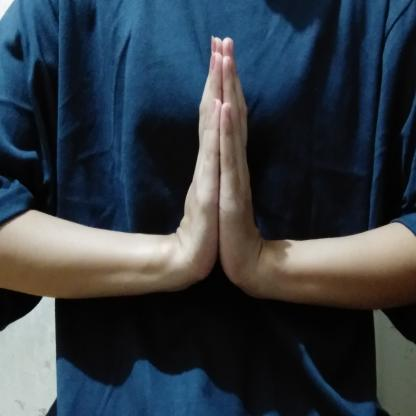sorry: (164, 30, 298, 304)
